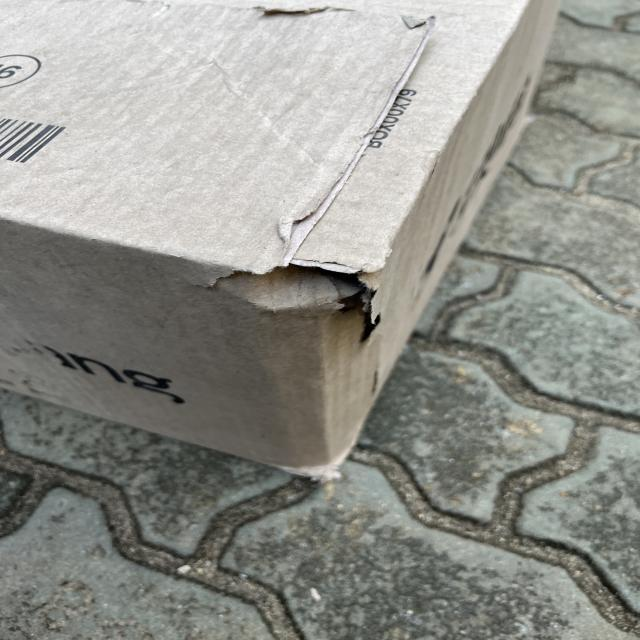hole: (211, 242, 385, 339)
